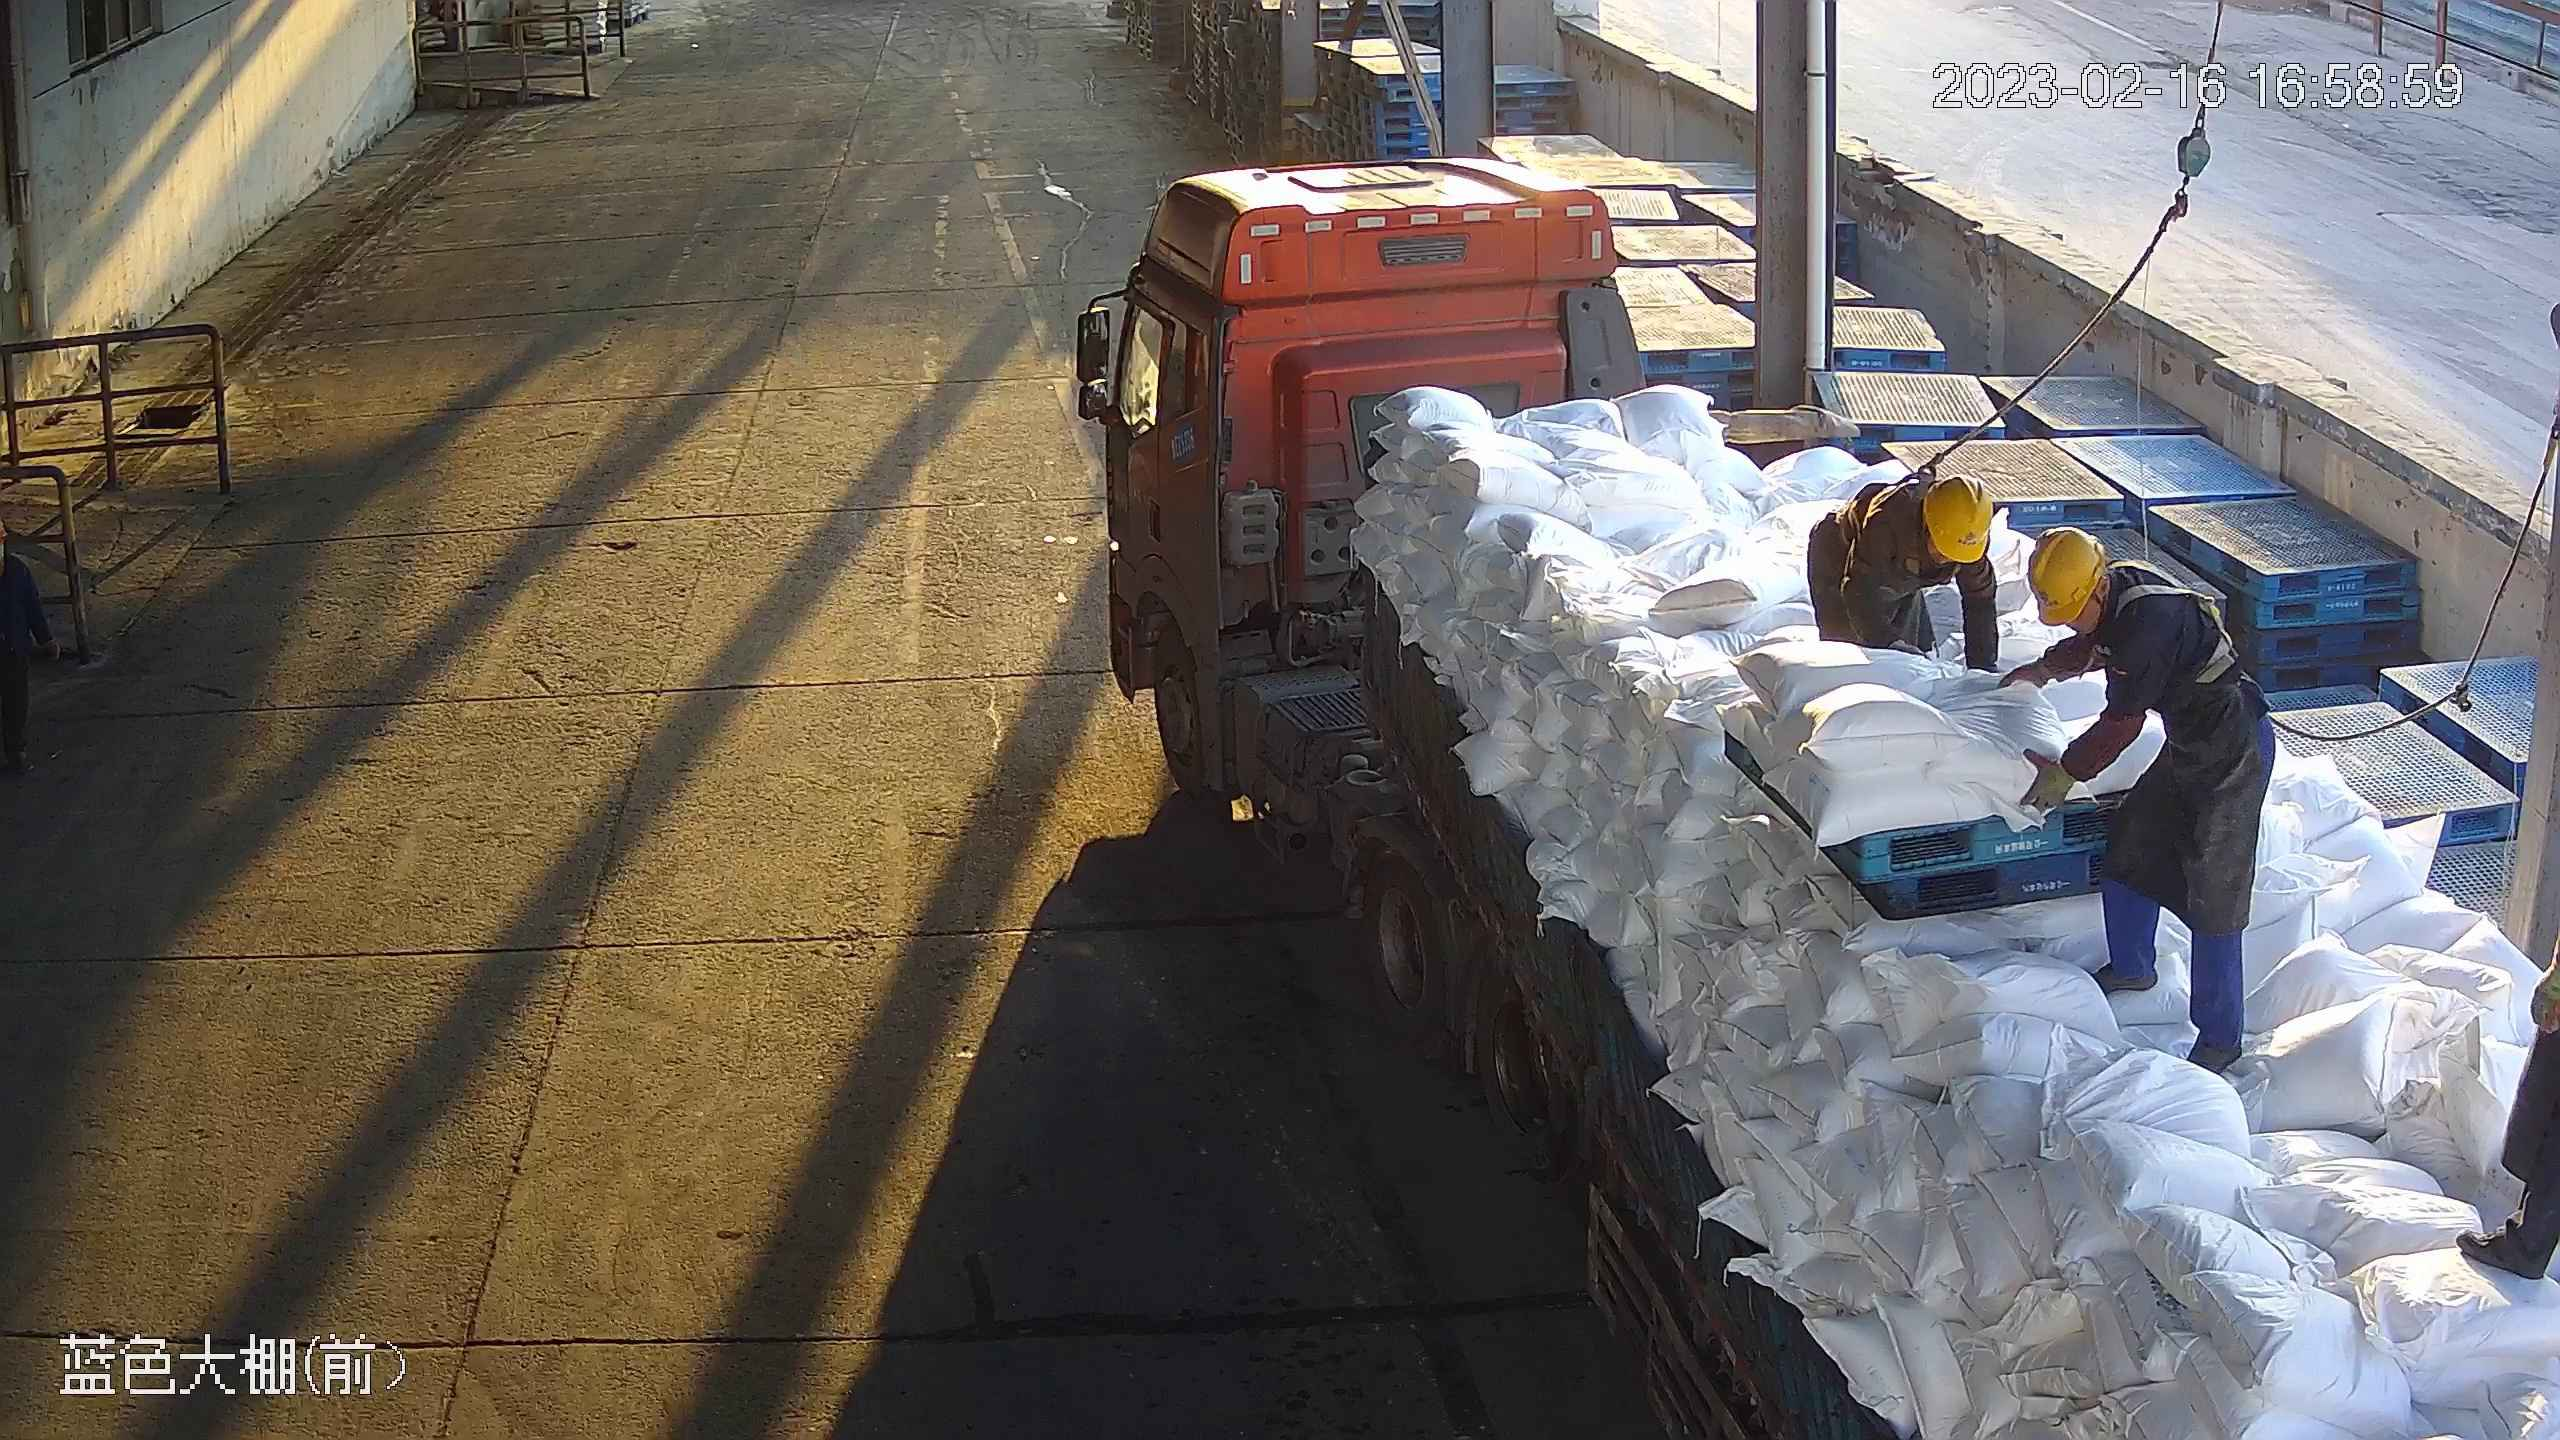belt: (2107, 565, 2246, 702), (1838, 477, 1922, 595)
head: (2030, 530, 2153, 662), (1876, 479, 1990, 585)
helmet: (2023, 520, 2109, 629), (1925, 472, 1995, 565)
people: (2030, 527, 2276, 1086), (1802, 479, 2007, 702)
truck: (1069, 158, 2560, 1440)
